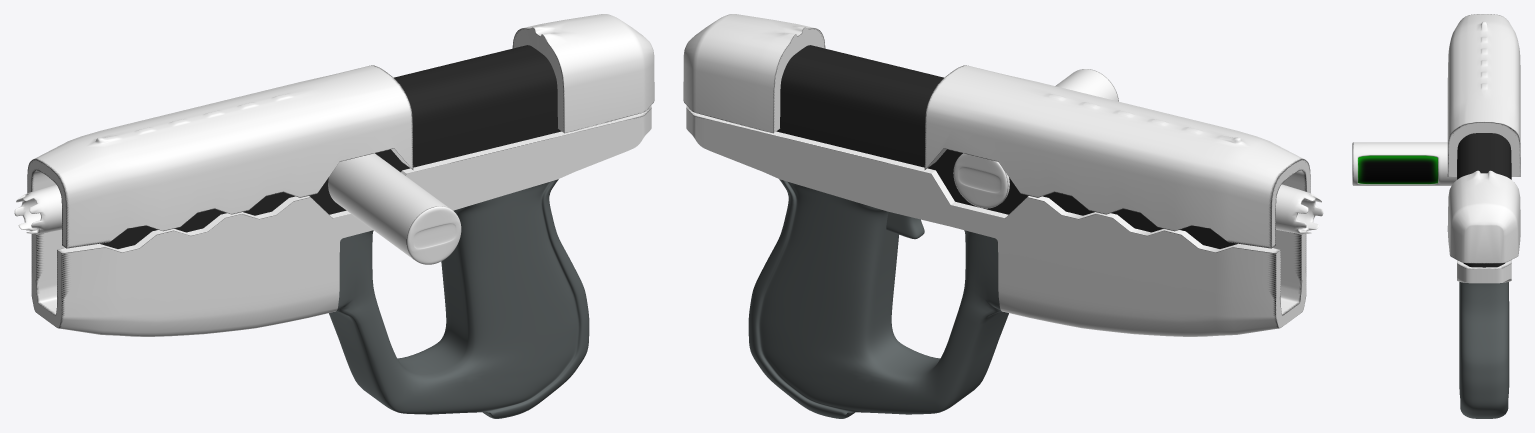
The model's file is Word_Weapon.FBX.
3 views of the same model, side by side, from view 1: azimuth 30°, elevation 25°; view 2: azimuth 150°, elevation 25°; view 3: azimuth 270°, elevation 25° (orthographic). The views are drawn at different scales.
Visible parts, largest first — view 1: ThatCoolGunUVReady; view 2: ThatCoolGunUVReady; view 3: ThatCoolGunUVReady.
Part boxes in pixels (bbox=[...]): ThatCoolGunUVReady: bbox=[14, 14, 654, 418]; ThatCoolGunUVReady: bbox=[683, 14, 1323, 418]; ThatCoolGunUVReady: bbox=[1352, 14, 1520, 418].
Size of the model in its own units: 631 by 359 by 215.
